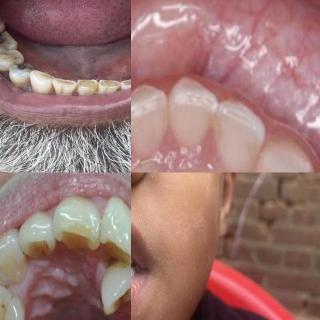maligned: (81, 259, 131, 320), (97, 197, 131, 271)
